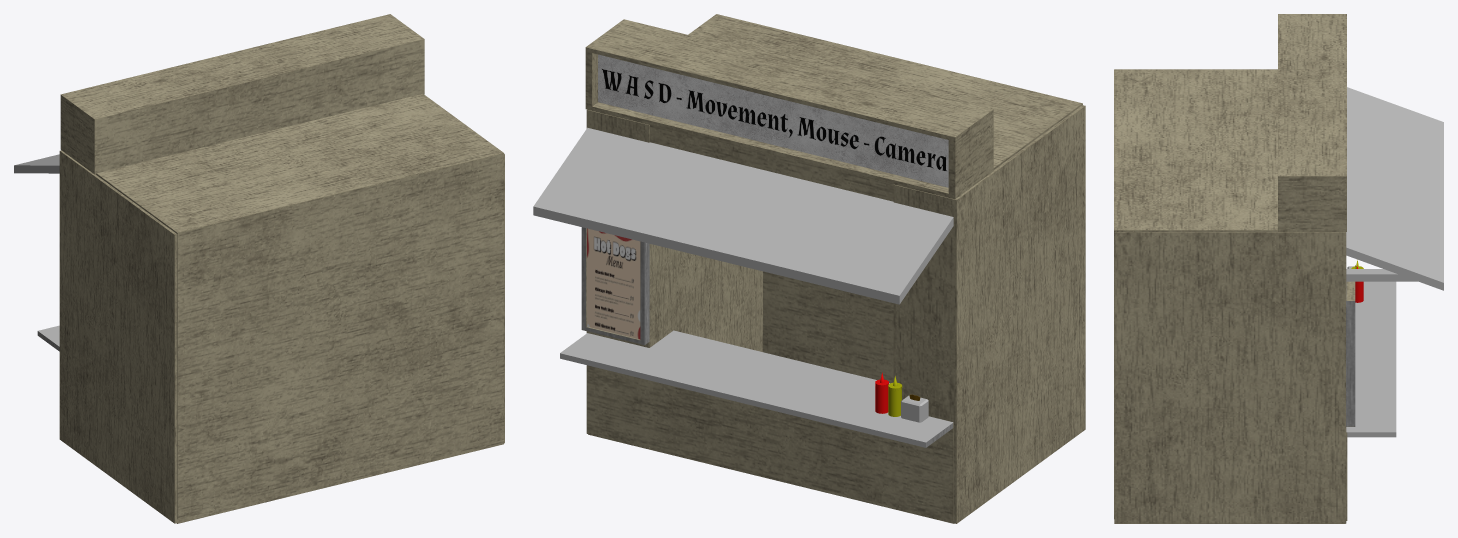
Rendered from shop.fbx.
3 renders of one model, left to right at view 1: azimuth 30°, elevation 25°; view 2: azimuth 150°, elevation 25°; view 3: azimuth 270°, elevation 25°, orthographic. The views are drawn at different scales.
Visible parts, largest first — view 1: group2_pCylinder2; view 2: group2_pCylinder2; view 3: group2_pCylinder2.
Part boxes in pixels (x1,y1,x2,y2): group2_pCylinder2: (14,14,504,523); group2_pCylinder2: (533,14,1085,523); group2_pCylinder2: (1114,14,1443,523).
Size of the model in its own units: 190 by 189 by 162.
5 materials, 1 textured.
